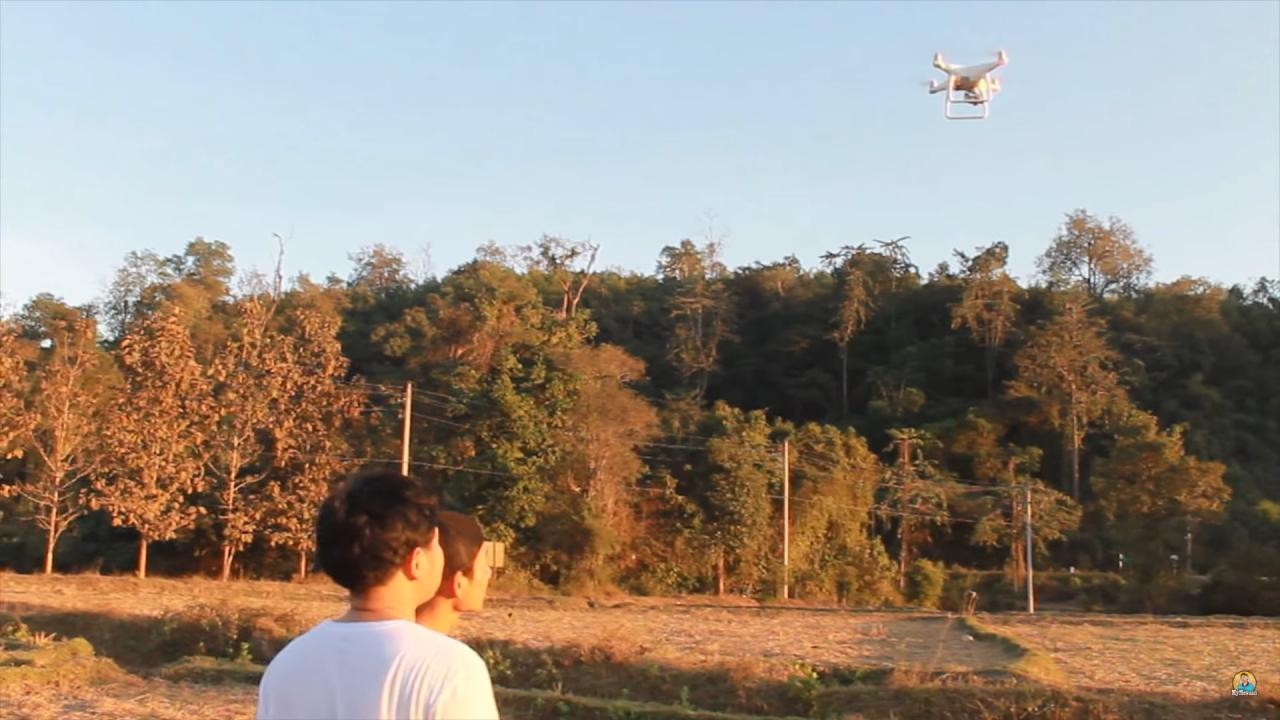Drone: (902, 34, 1030, 130)
